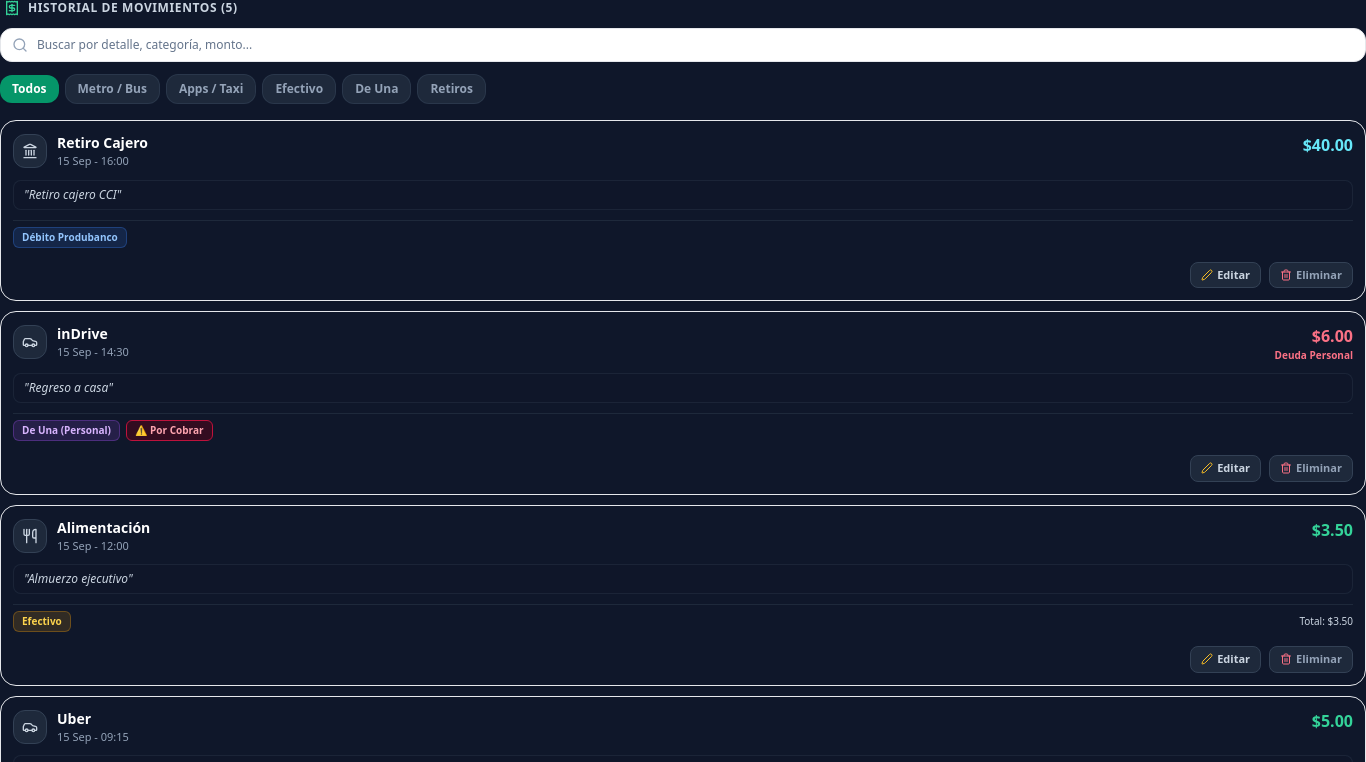
Test: TransactionHistory › confirms and deletes transaction through confirmation modal
The width and height of the screenshot is (1366, 762).
What coordinates should you click on to do the following:
click the button "Eliminar" below "40.00"
I would click on:
 (1311, 275)
Its box is x1=1269 y1=262 x2=1353 y2=288.
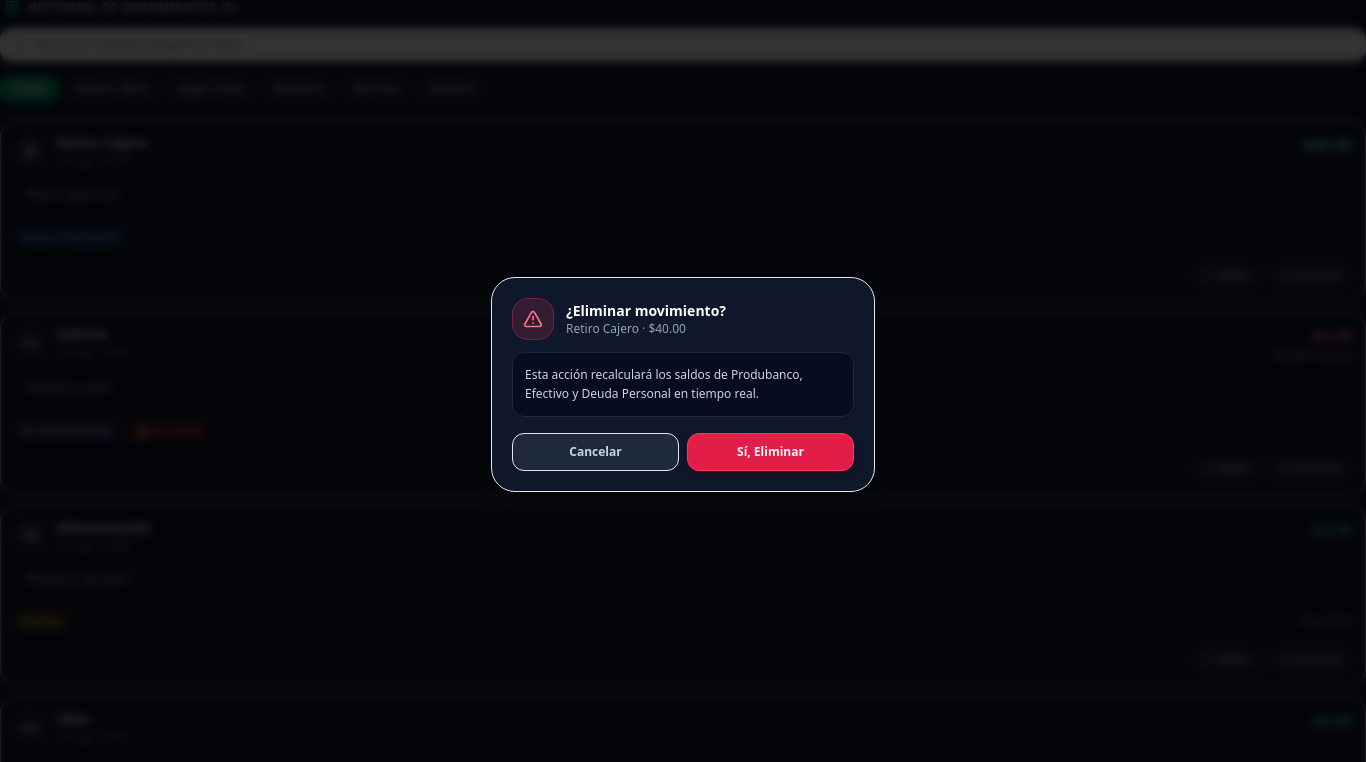
Expected: the heading "¿Eliminar movimiento?" is shown, x1=566 y1=300 x2=726 y2=320
Note: Cancel first
What coordinates should you click on to do the following:
click the button "Cancelar"
I would click on:
 (596, 452)
Its box is x1=512 y1=432 x2=679 y2=470.
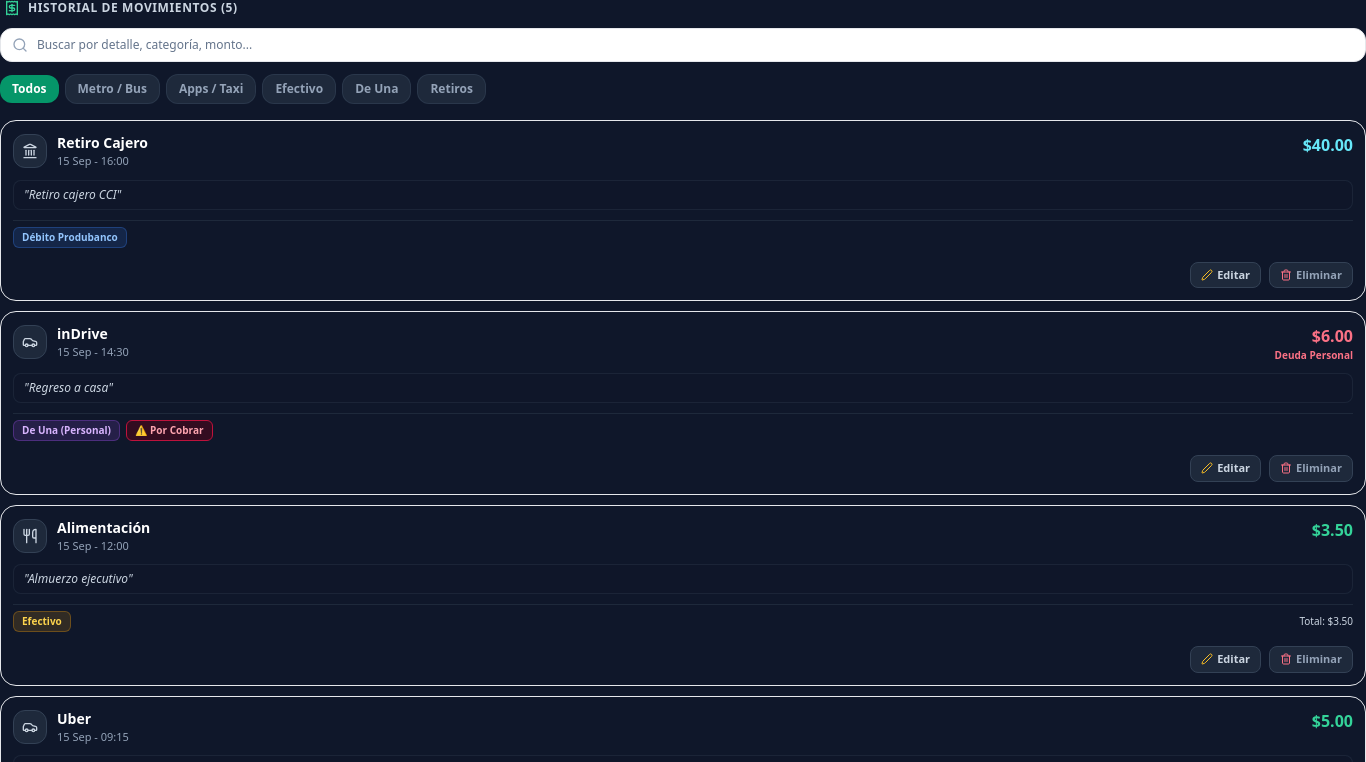
Expected: the heading "¿Eliminar movimiento?" is gone
Note: Click delete again and confirm
What coordinates should you click on to do the following:
click the button "Eliminar" below "40.00"
I would click on:
 (1311, 275)
Its box is x1=1269 y1=262 x2=1353 y2=288.
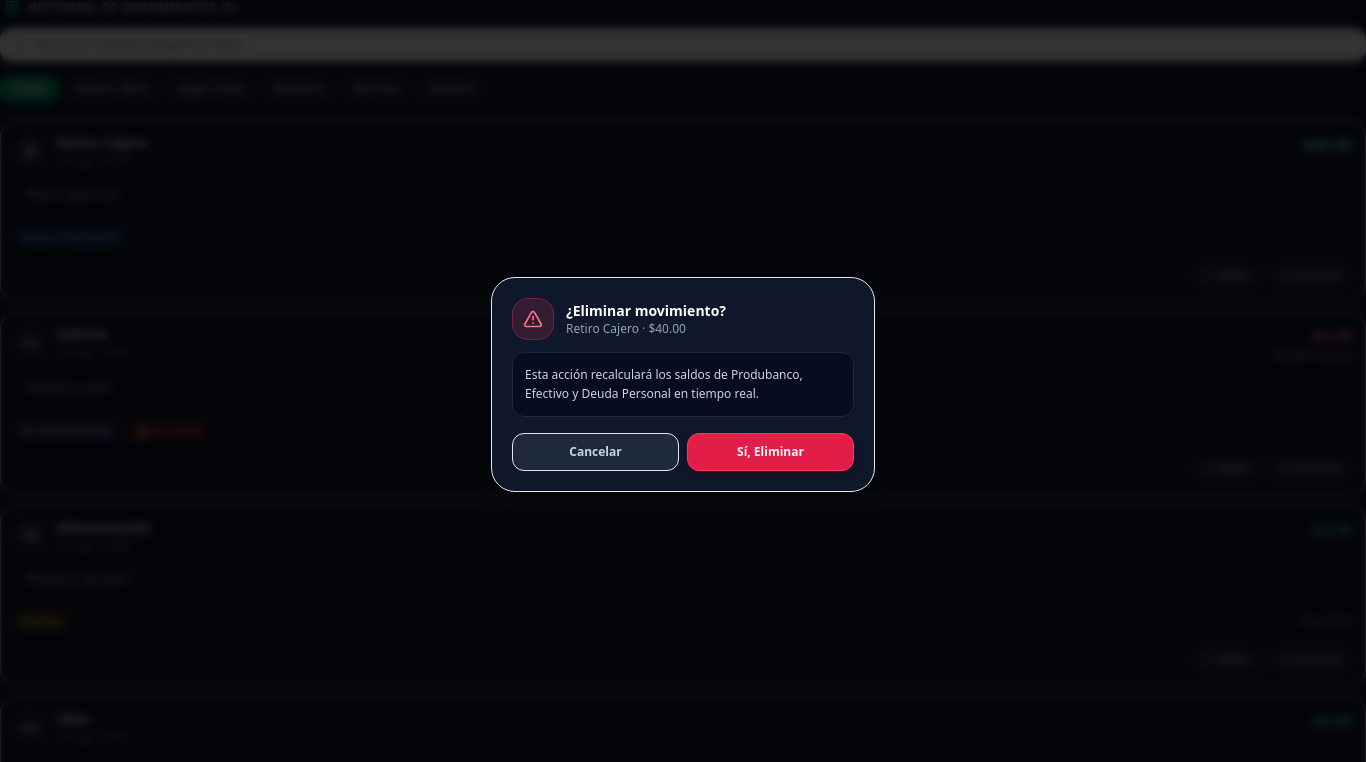
What coordinates should you click on to do the following:
click the button "Sí, Eliminar"
I would click on:
 (770, 452)
Its box is x1=687 y1=432 x2=854 y2=470.
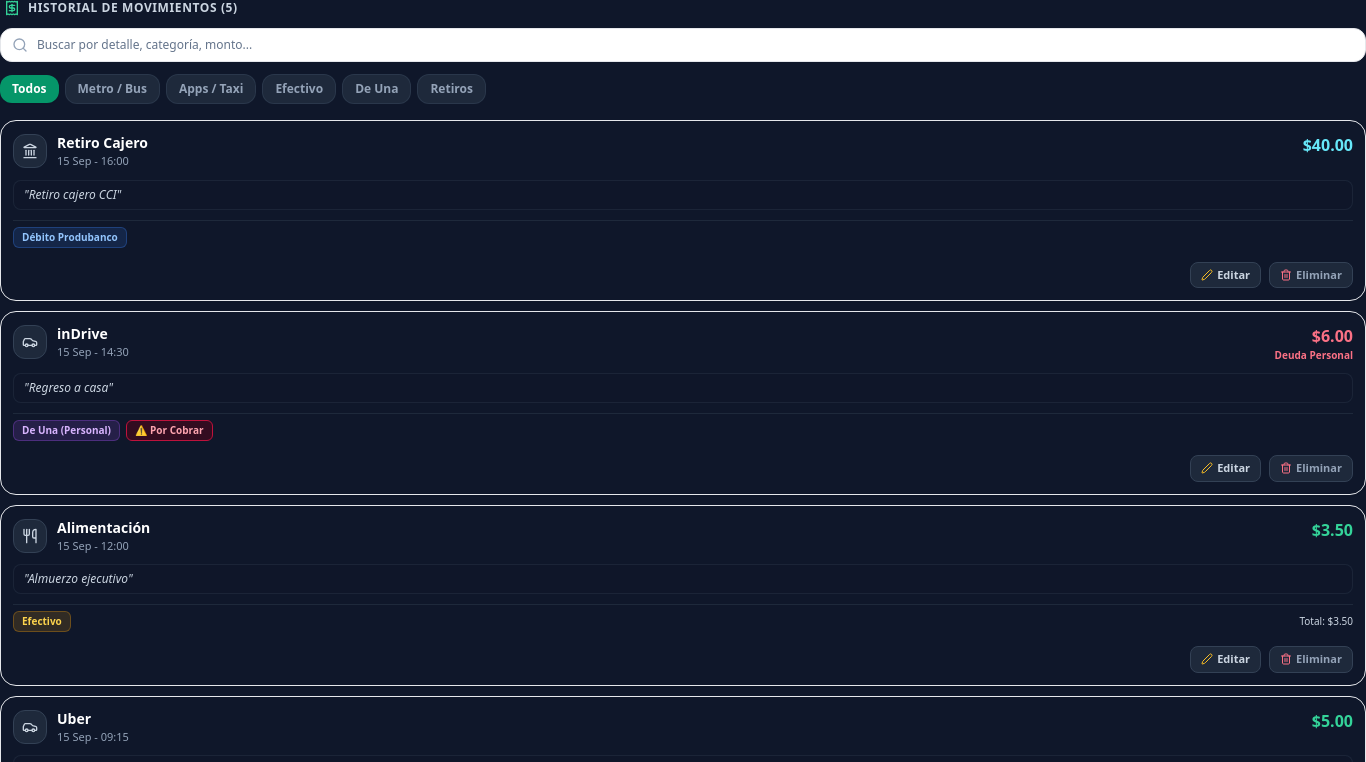
Expected: the heading "¿Eliminar movimiento?" is gone
